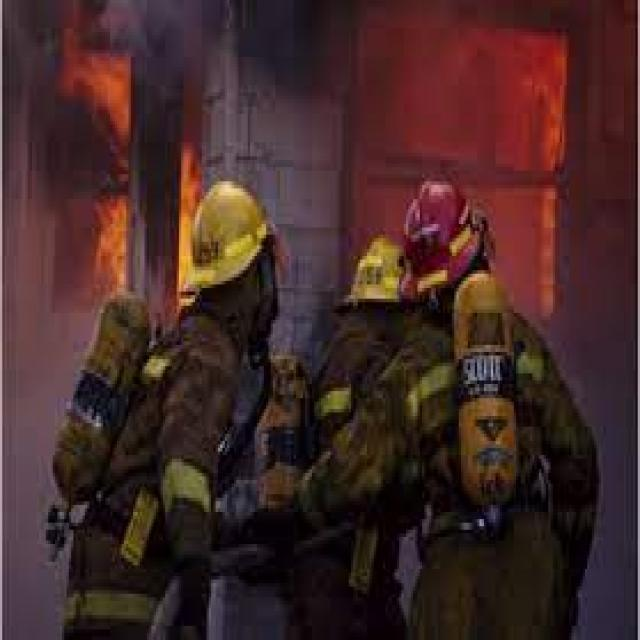Fire: (90, 196, 134, 300)
Smoke: (52, 0, 223, 52)
